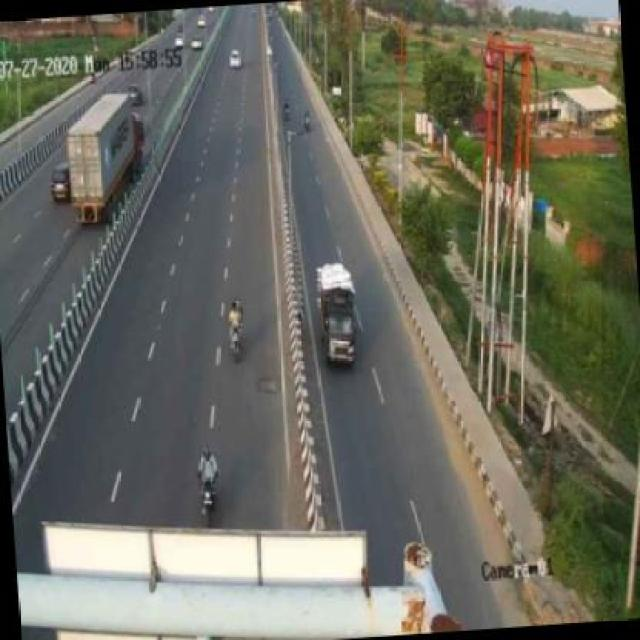car: (226, 48, 245, 75)
